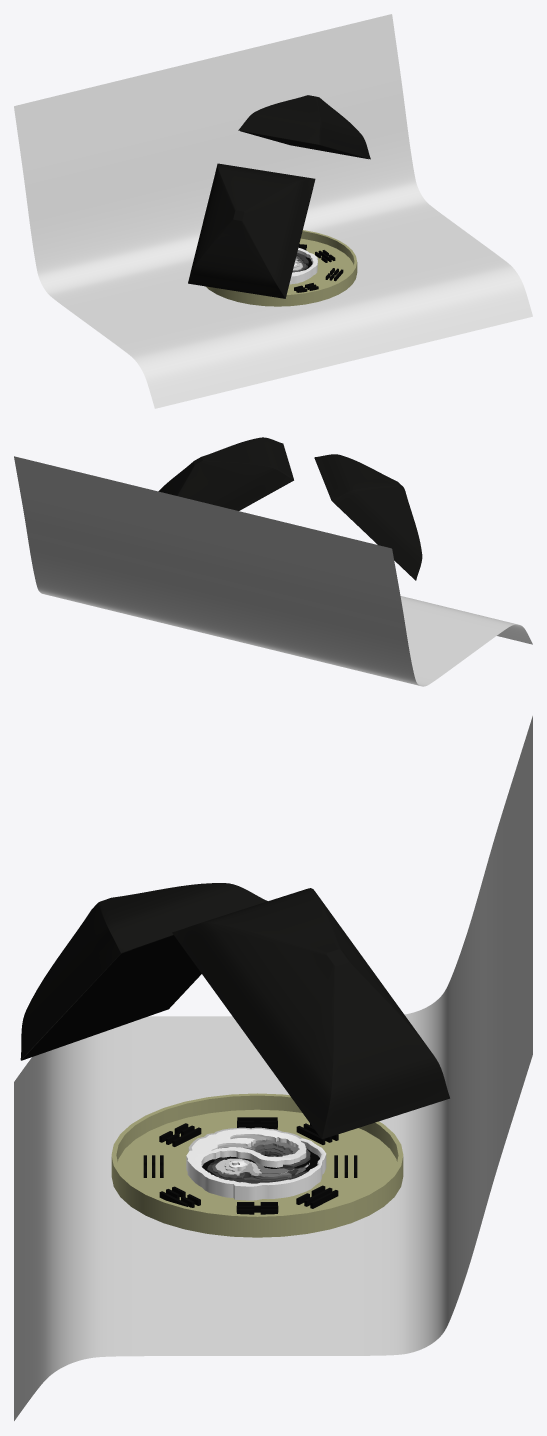
3 renders of one model, top to bottom at view 1: azimuth 30°, elevation 25°; view 2: azimuth 150°, elevation 25°; view 3: azimuth 270°, elevation 25°, orthographic. The views are drawn at different scales.
Parts seen in each view (by area): view 1: Studio_S, Softbox_Assembly_2, Softbox_Assembly, 圆盘, 圆柱, Front_Of_Softbox; view 2: Studio_S, Softbox_Assembly_2, Softbox_Assembly; view 3: Studio_S, Softbox_Assembly, 圆盘, Softbox_Assembly_2, Front_Of_Softbox_2, 圆柱.
Boxes of the visible parts, x1,y1,x2,y2 form: Studio_S: (14, 14, 532, 408); Softbox_Assembly_2: (188, 163, 315, 298); Softbox_Assembly: (238, 95, 370, 159); 圆盘: (205, 230, 357, 306); 圆柱: (289, 247, 317, 284); Front_Of_Softbox: (240, 131, 368, 159); Studio_S: (14, 456, 532, 686); Softbox_Assembly_2: (314, 454, 422, 580); Softbox_Assembly: (158, 437, 293, 510); Studio_S: (14, 716, 532, 1420); Softbox_Assembly: (172, 888, 449, 1138); 圆盘: (111, 1093, 403, 1237); Softbox_Assembly_2: (20, 883, 267, 1060); Front_Of_Softbox_2: (21, 935, 201, 1060); 圆柱: (186, 1127, 326, 1200).
Bounding box in the file's own units: 2462 × 1241 × 1590.
